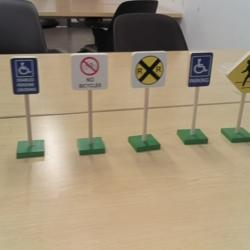disabled_persons_crossing: (9, 56, 40, 95)
handicap_parking: (188, 52, 214, 87)
no_bicycle: (70, 53, 108, 91)
pedestrian_crossing: (226, 51, 250, 93)
railroad_crossing: (131, 52, 166, 88)
